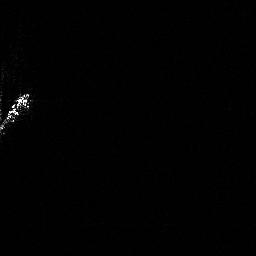ship: (1, 87, 35, 137)
